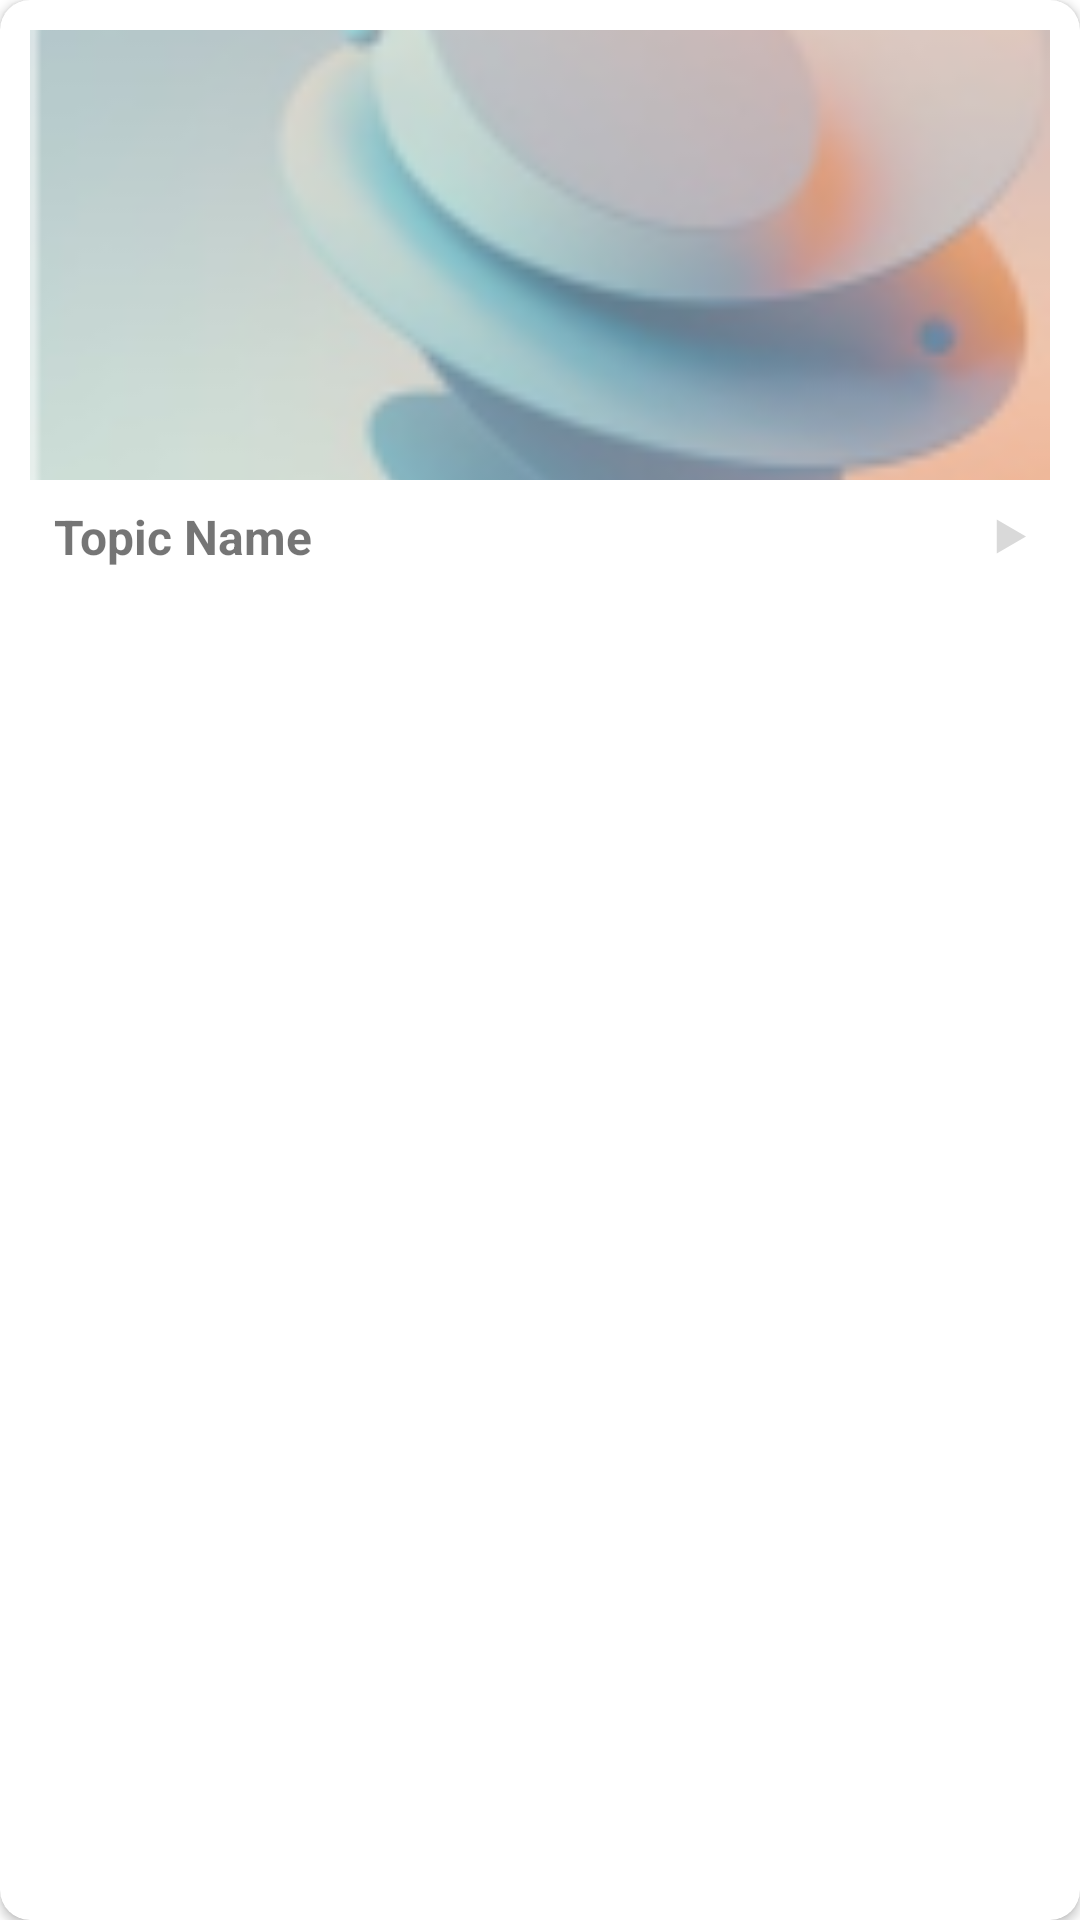

Locate icon controls on the screen. Image size 1080x1920, boxes as region(x1, y1, x2, y2).
play: region(997, 520, 1025, 553)
